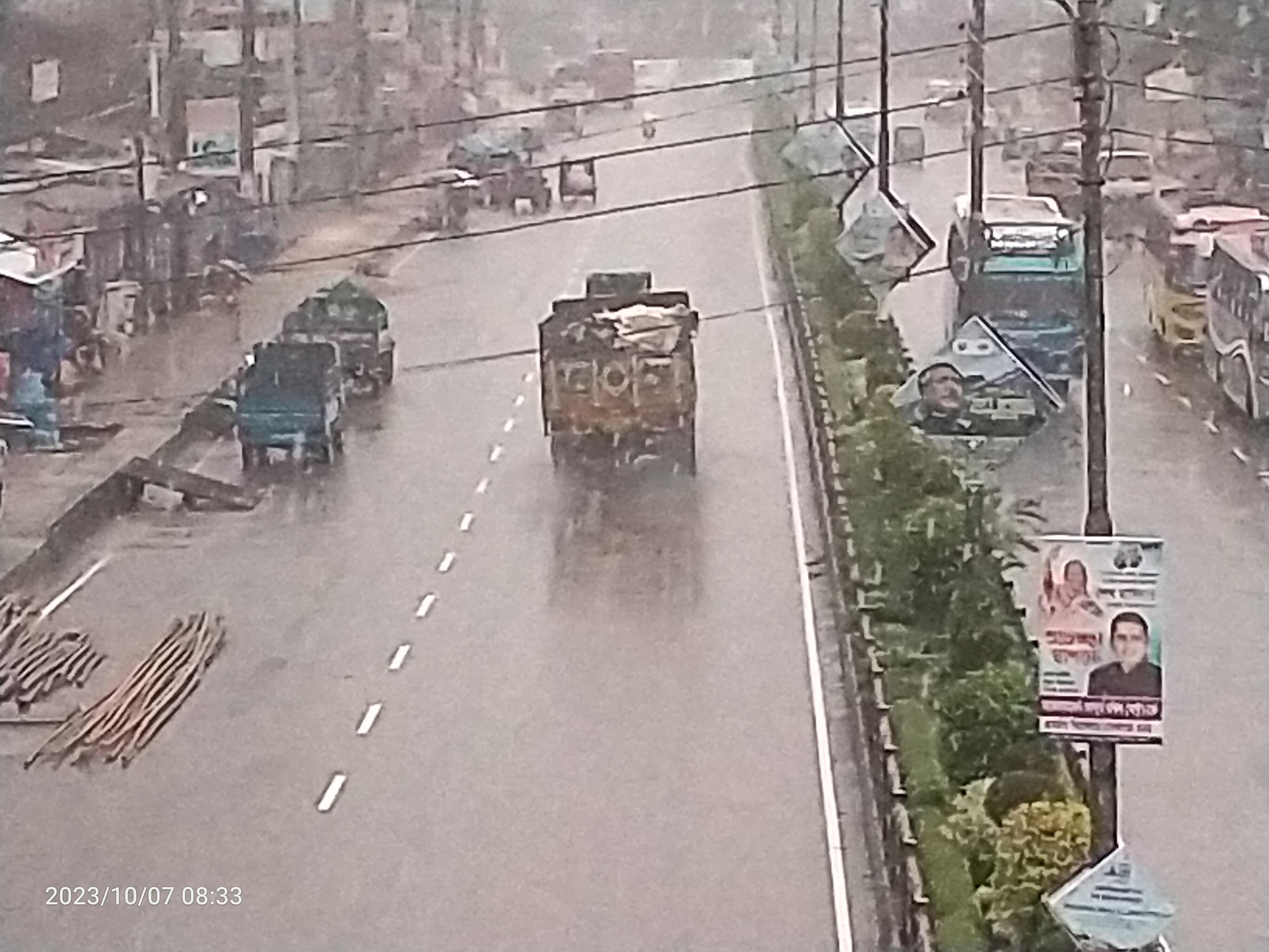Bus: (916, 182, 1120, 444), (1132, 172, 1269, 373), (1180, 219, 1269, 446)
Truck: (502, 234, 740, 509), (201, 319, 363, 476), (255, 269, 417, 414)
